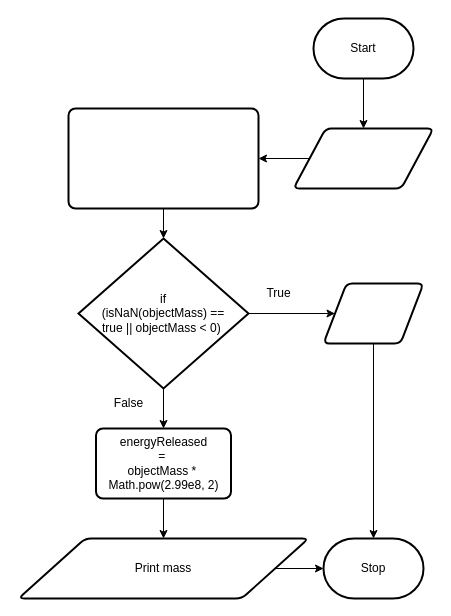
Some shapes in this 451 by 616 pixel diagram are drawn without their labels. The centre of each missing label's shape, as x and y in pixels:
Get objectMassString: [363,158]
objectMass = parseFloat(objectMassString.value || "-1"): [163,158]
Print "Invalid input": [373,313]
